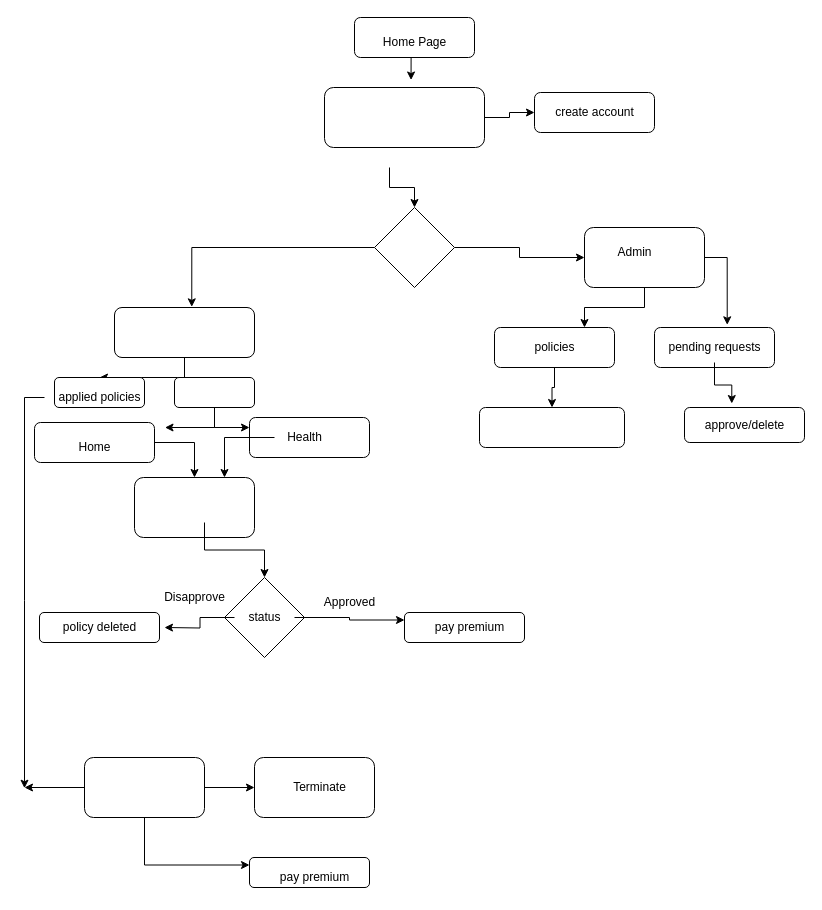
The diagram is 822 pixels wide and 910 high, and some of its shapes have lost their labels. The centre of each missing label's shape, as x and y in pixels:
"Add new plan" goes at [214,392].
"add/update/delete poliicies" goes at [551,427].
"browse plans user login admin login create account" goes at [404,117].
"Login" goes at [414,247].
"select a plan" goes at [194,507].
"User" goes at [184,332].
"user polices" goes at [144,787].
